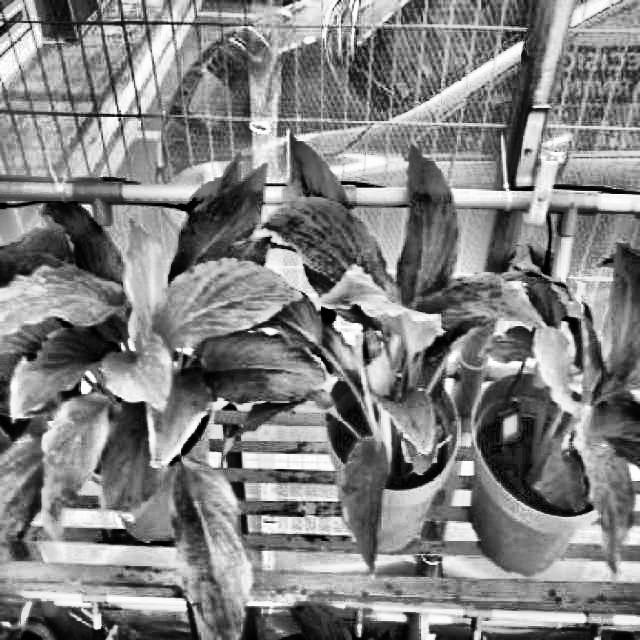plants: (0, 151, 329, 640), (223, 132, 582, 580), (479, 238, 638, 580)
